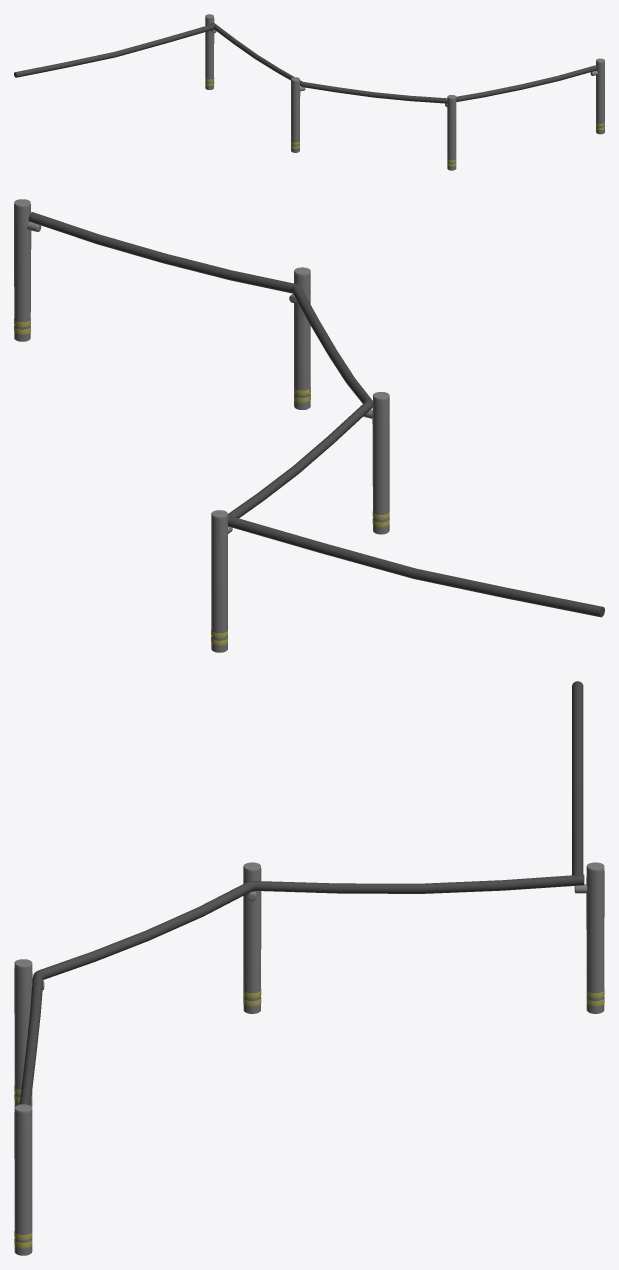
The model's file is aruhula_dentyu.fbx.
The picture shows the model from 3 angles, top to bottom: view 1: azimuth 30°, elevation 25°; view 2: azimuth 150°, elevation 25°; view 3: azimuth 270°, elevation 25°; orthographic projection. The views are drawn at different scales.
Parts seen in each view (by area): view 1: sen, sen2, dentyuu1, dentyuu2, dentyuu, dentyuu3; view 2: sen, sen2, dentyuu2, dentyuu, dentyuu3, dentyuu1; view 3: sen, dentyuu3, dentyuu, dentyuu2, sen2, dentyuu1.
Part boxes in pixels (x1=…): sen: x1=210, y1=22, x2=596, y2=103; sen2: x1=14, y1=24, x2=214, y2=77; dentyuu1: x1=445, y1=95, x2=456, y2=170; dentyuu2: x1=291, y1=77, x2=305, y2=152; dentyuu: x1=590, y1=58, x2=604, y2=134; dentyuu3: x1=205, y1=14, x2=216, y2=89; sen: x1=28, y1=212, x2=372, y2=525; sen2: x1=228, y1=516, x2=604, y2=617; dentyuu2: x1=363, y1=392, x2=389, y2=534; dentyuu: x1=14, y1=199, x2=41, y2=341; dentyuu3: x1=211, y1=510, x2=232, y2=652; dentyuu1: x1=289, y1=267, x2=310, y2=409; sen: x1=19, y1=874, x2=584, y2=1105; dentyuu3: x1=574, y1=862, x2=604, y2=1013; dentyuu: x1=14, y1=1104, x2=32, y2=1255; dentyuu2: x1=243, y1=862, x2=261, y2=1013; sen2: x1=572, y1=681, x2=583, y2=875; dentyuu1: x1=14, y1=959, x2=44, y2=1106.
Size of the model in its own units: 90.9 by 13.96 by 51.58.
